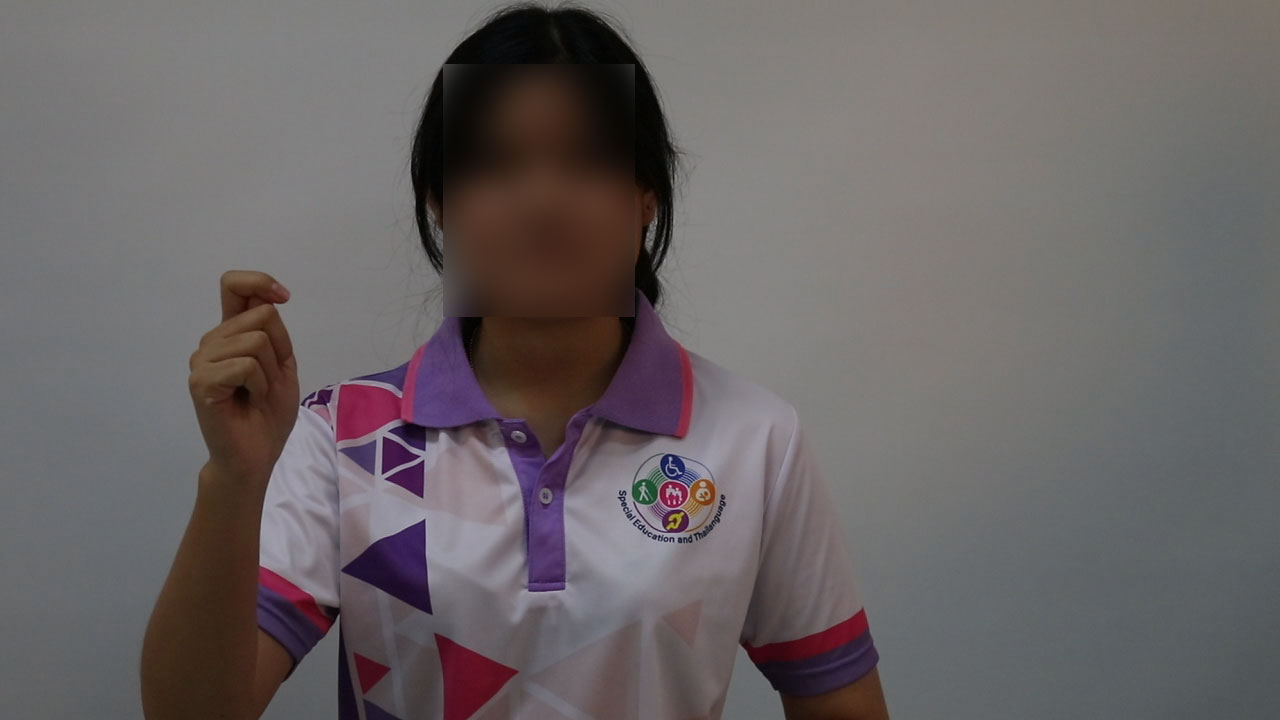or: (171, 265, 317, 481)
